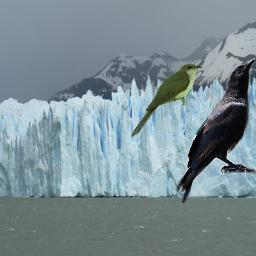Crow: (176, 57, 256, 203)
Cuckoo: (131, 63, 203, 138)
